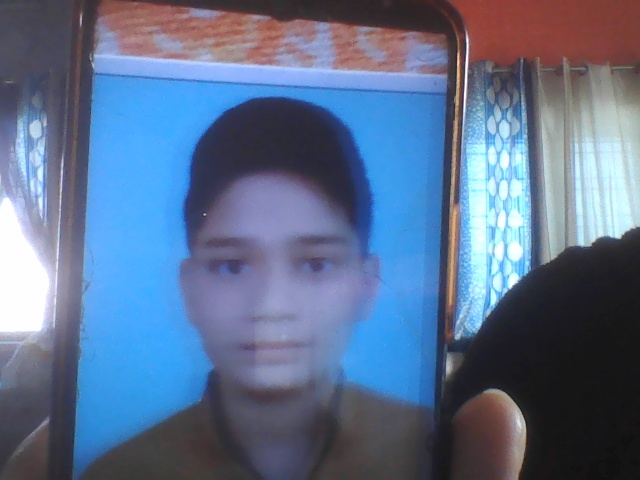fake: (162, 90, 397, 423)
